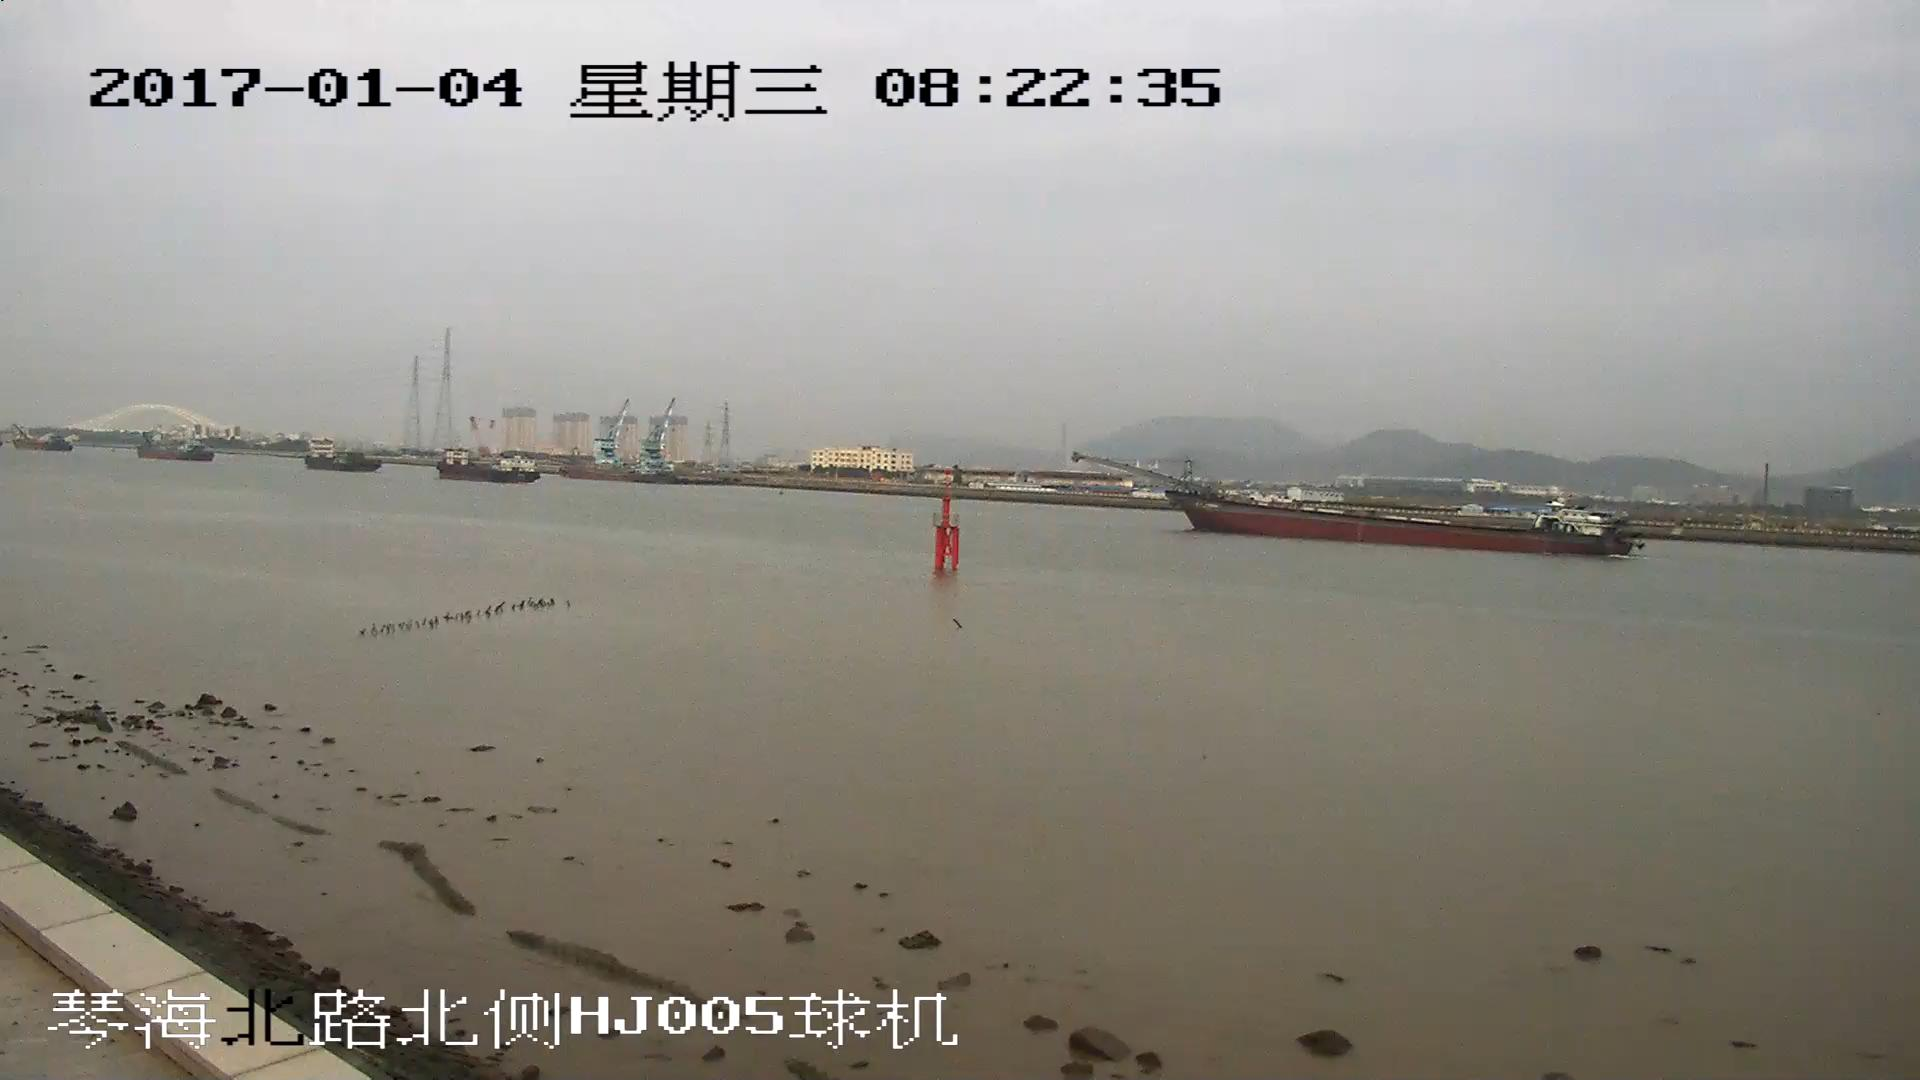bulk cargo carrier: (1077, 453, 1636, 560)
